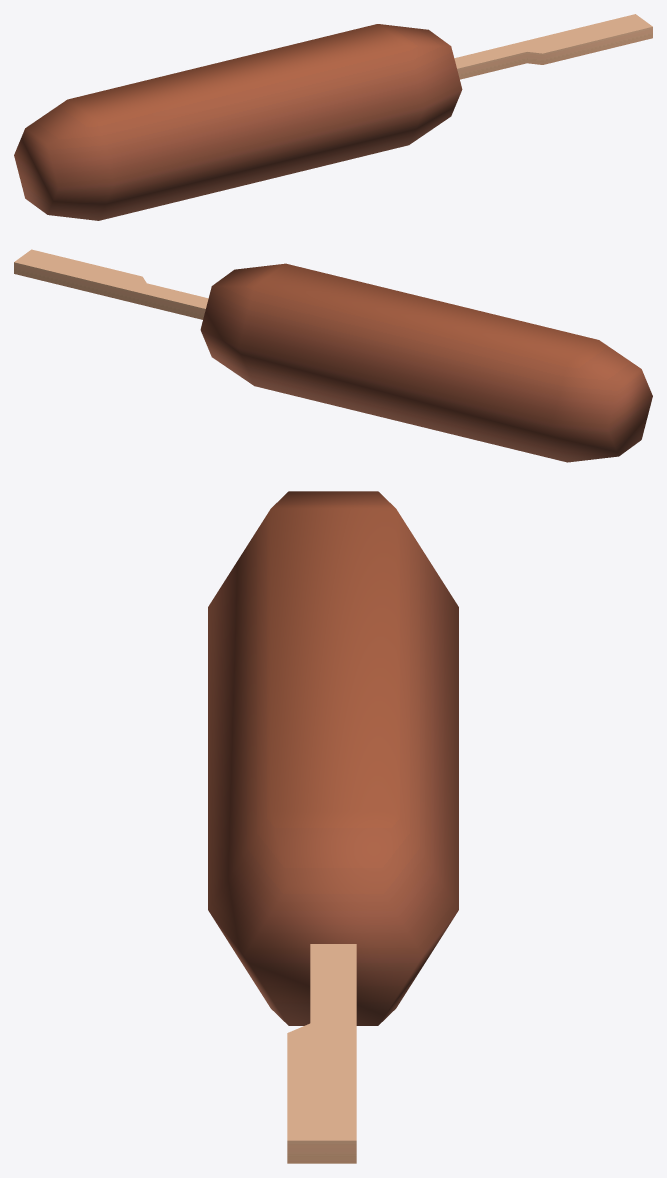
File: corn-dog.glb
3 renders of one model, top to bottom at view 1: azimuth 30°, elevation 25°; view 2: azimuth 150°, elevation 25°; view 3: azimuth 270°, elevation 25°, orthographic. The views are drawn at different scales.
Parts seen in each view (by area): view 1: dog, corn-dog; view 2: dog, corn-dog; view 3: dog, corn-dog.
Boxes of the visible parts, left/top/right/bottom form: dog: left=14, top=24, right=462, bottom=220; corn-dog: left=454, top=14, right=652, bottom=79; dog: left=200, top=263, right=652, bottom=462; corn-dog: left=14, top=249, right=208, bottom=319; dog: left=208, top=491, right=458, bottom=1025; corn-dog: left=287, top=944, right=356, bottom=1163.
Size of the model in its own units: 0.6044 by 0.094 by 0.1086.
Materials: 1 (1 with a texture image).
